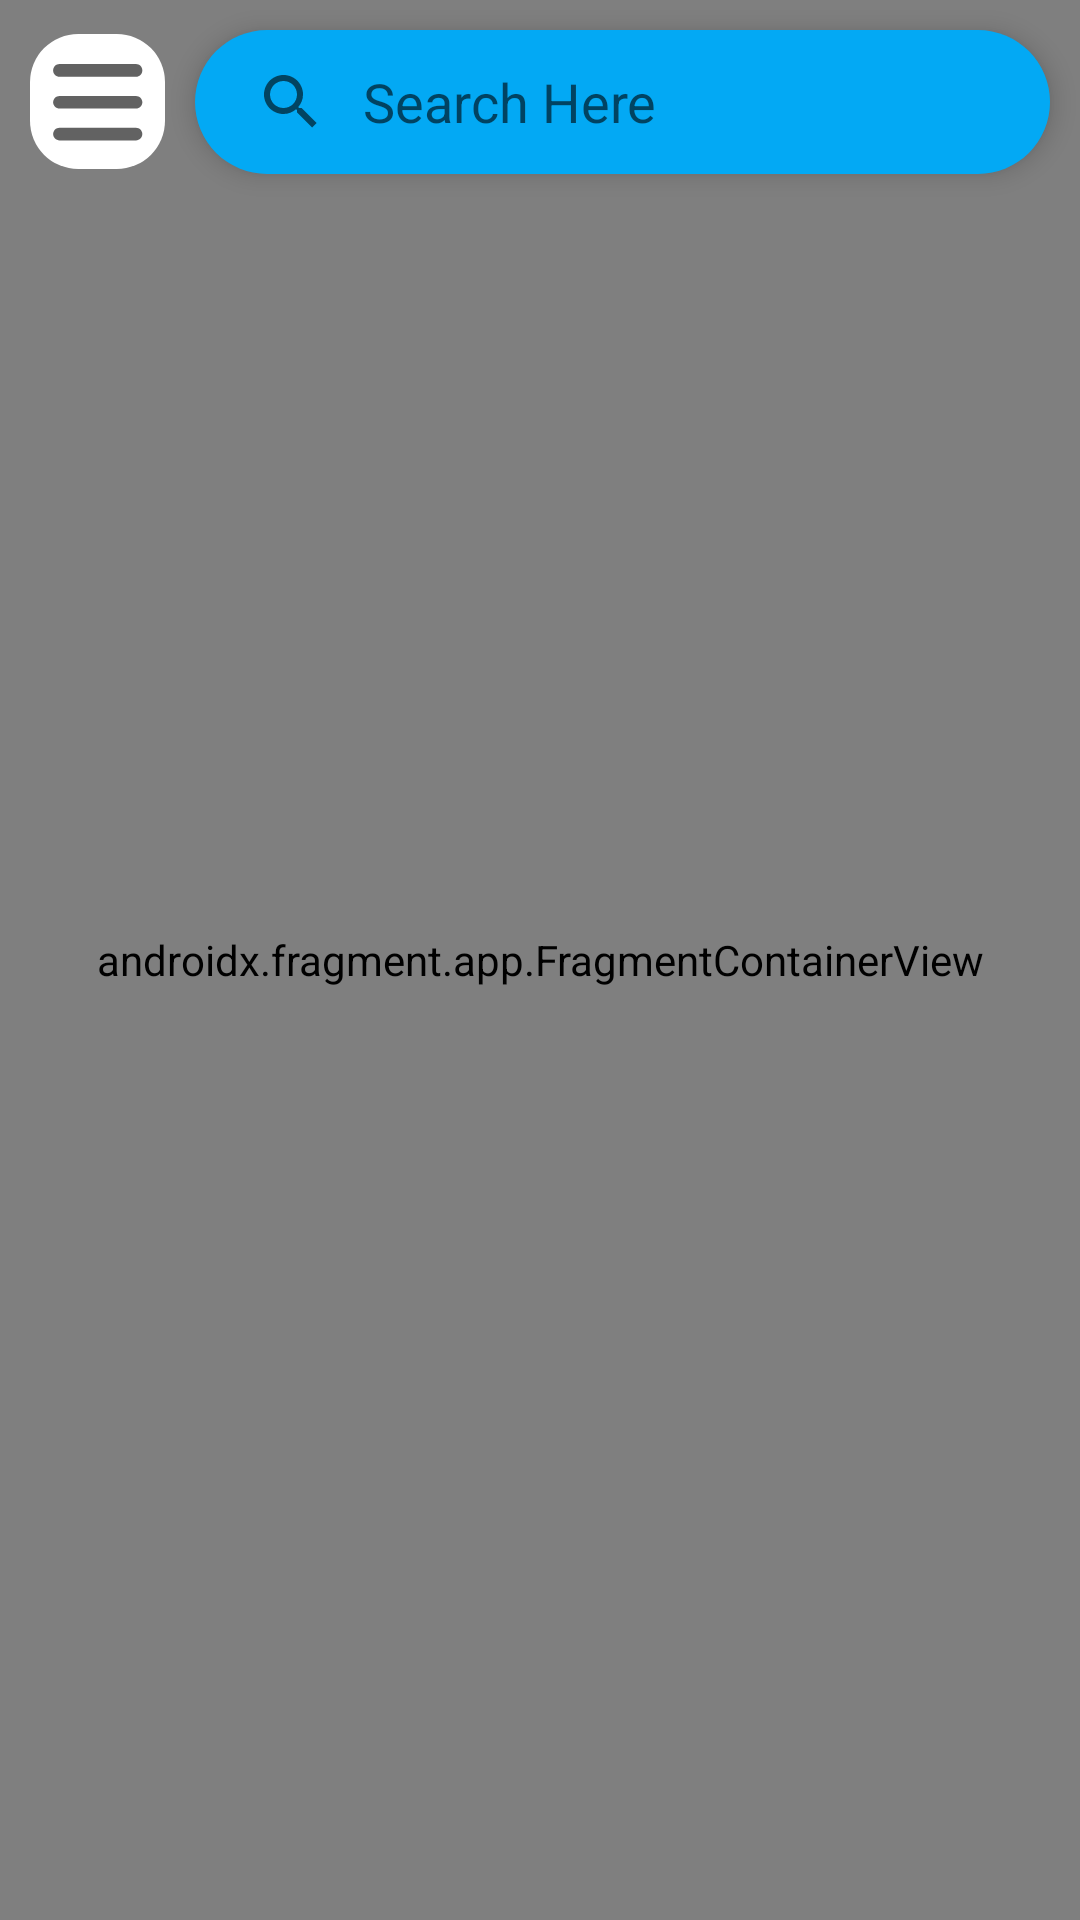

Screen size 1080 × 1920. Icon name, then its box in pixels as (x1, y1, x2, y2):
hamburger: (30, 34, 165, 169)
